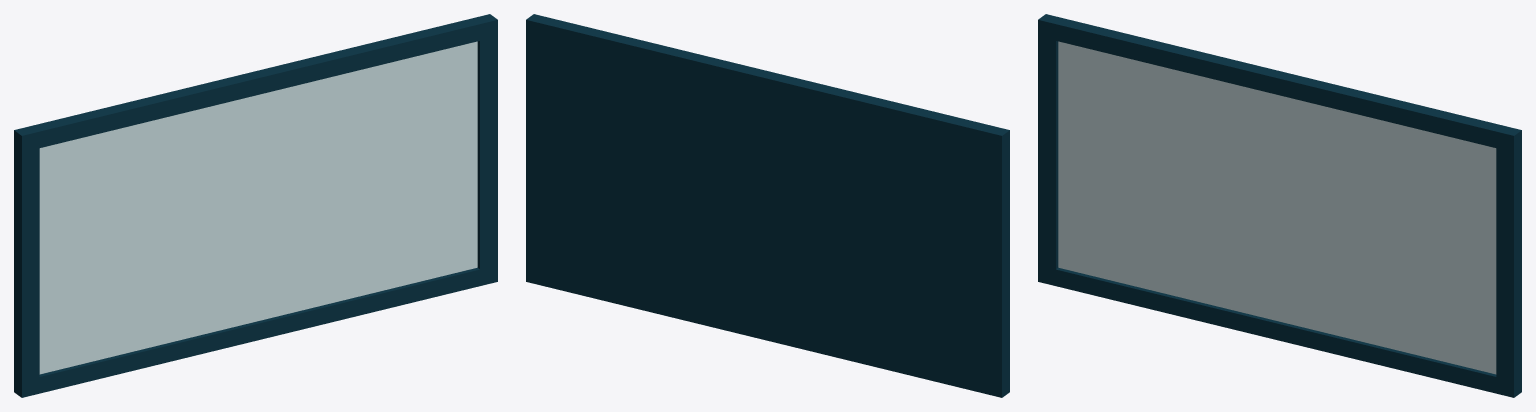
Rendered from Itr_Obj_Monitor_LCD_Screen_On_03.FBX.
The picture shows the model from 3 angles, left to right: view 1: azimuth 30°, elevation 25°; view 2: azimuth 150°, elevation 25°; view 3: azimuth 330°, elevation 25°; orthographic projection.
Visible parts, largest first — view 1: Itr_Obj_Monitor_LCD_Screen_On_03; view 2: Itr_Obj_Monitor_LCD_Screen_On_03; view 3: Itr_Obj_Monitor_LCD_Screen_On_03.
Part boxes in pixels (box(x1,y1,x2,y2)): Itr_Obj_Monitor_LCD_Screen_On_03: box(14, 14, 497, 397); Itr_Obj_Monitor_LCD_Screen_On_03: box(526, 14, 1009, 397); Itr_Obj_Monitor_LCD_Screen_On_03: box(1038, 14, 1521, 397).
Size of the model in its own units: 66.79 by 35.13 by 1.92.
